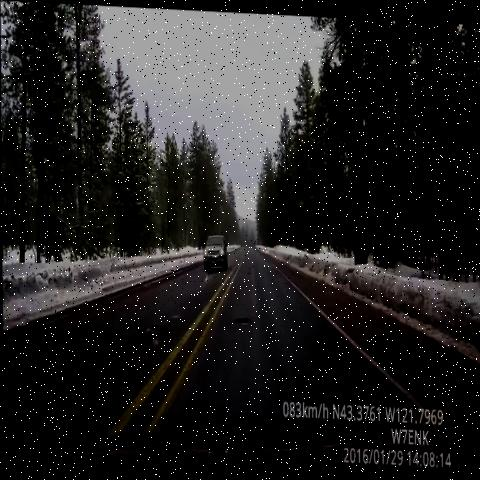pothole: (127, 301, 180, 373), (224, 308, 256, 338), (239, 262, 254, 275)
